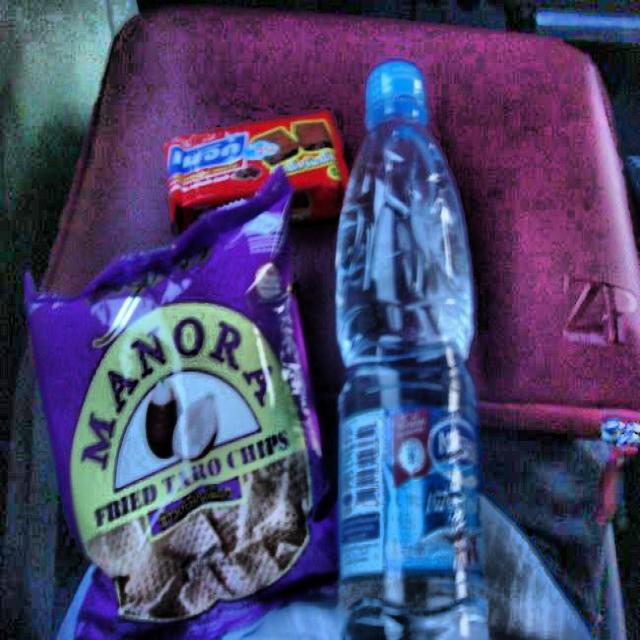Bottles: (325, 51, 509, 640)
